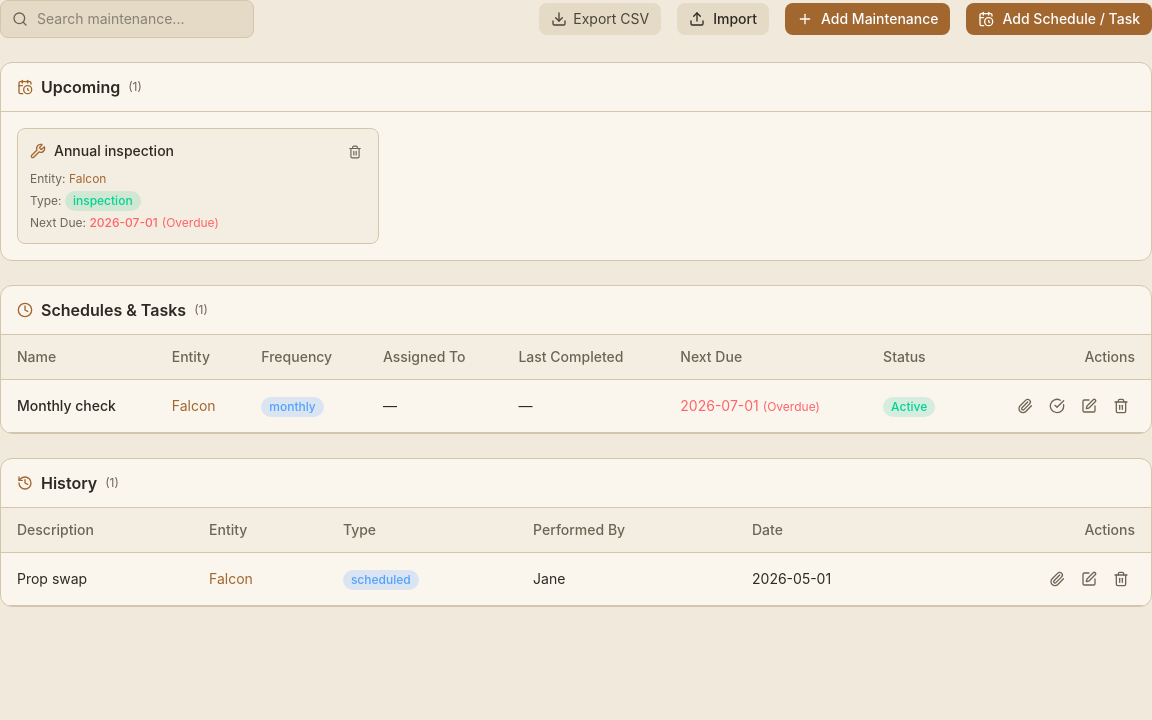
Test case: MaintenancePage › opens the Add Maintenance modal from the toolbar (pilot+)
expect the text "Prop swap" is shown: met, box 1,552 -> 193,606
Click the button "Add Maintenance" at (868, 19), box 785,3 -> 950,35
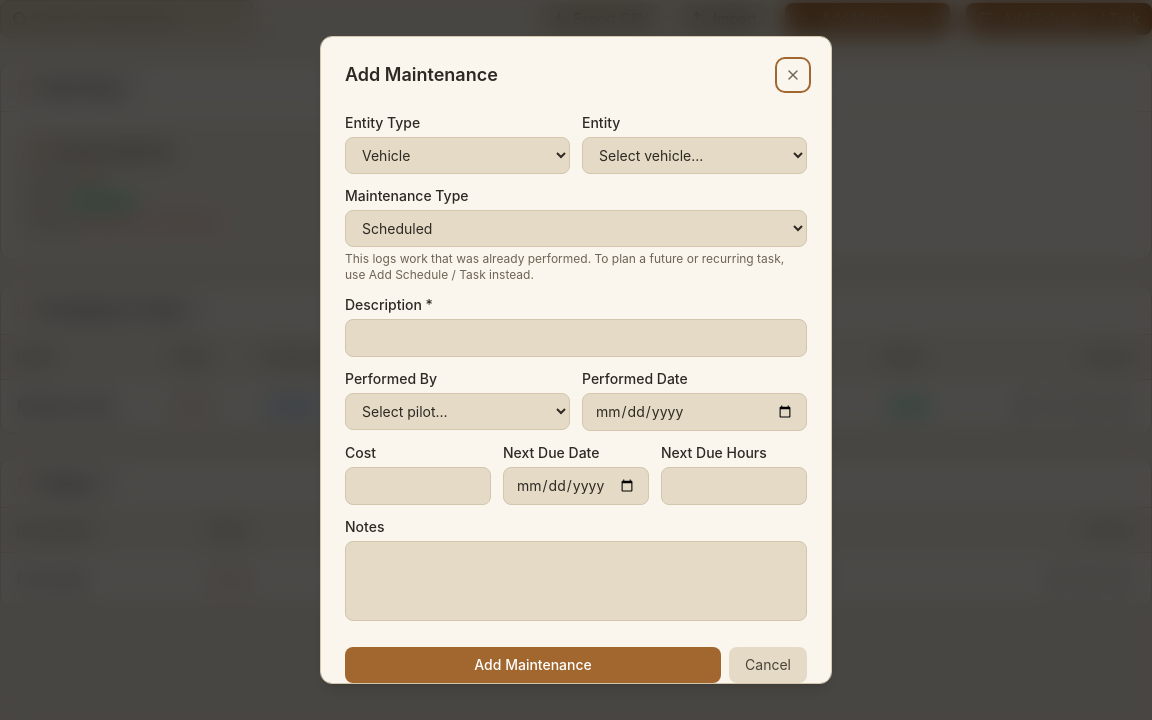
expect the heading "Add Maintenance" is shown: met, box 345,61 -> 498,89
